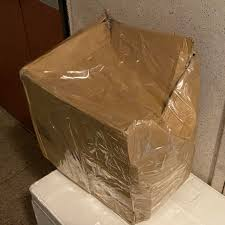damaged package: (127, 37, 200, 165), (91, 10, 127, 57)
